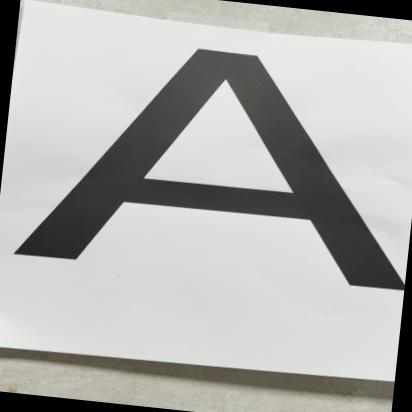seat: (11, 19, 412, 350), (11, 18, 412, 331)
